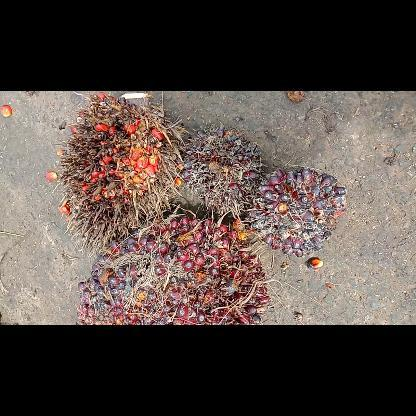TBS abnormal: (248, 167, 350, 258), (178, 122, 264, 214)
TBS masak: (74, 216, 270, 324)
Terlalu masak: (53, 92, 182, 256)
